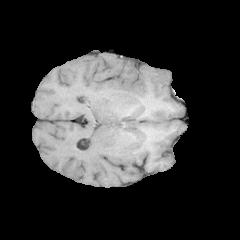glioma: (104, 67, 169, 126)
